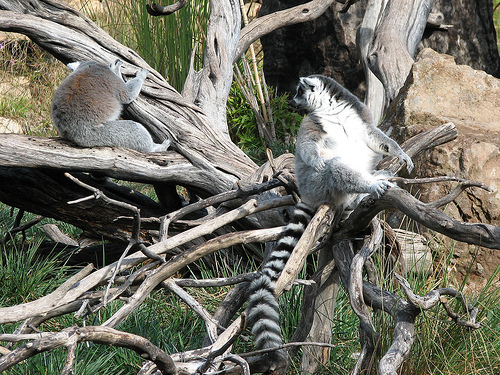cat: (248, 73, 414, 371), (52, 55, 177, 154)
